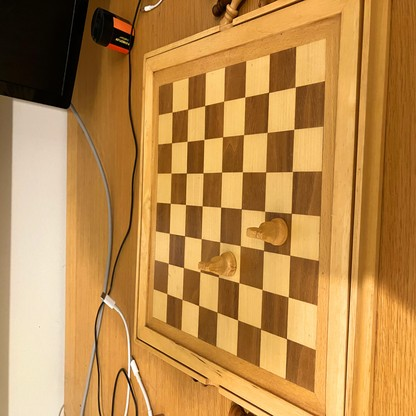knight_white: (248, 217, 289, 245), (199, 253, 237, 276)
